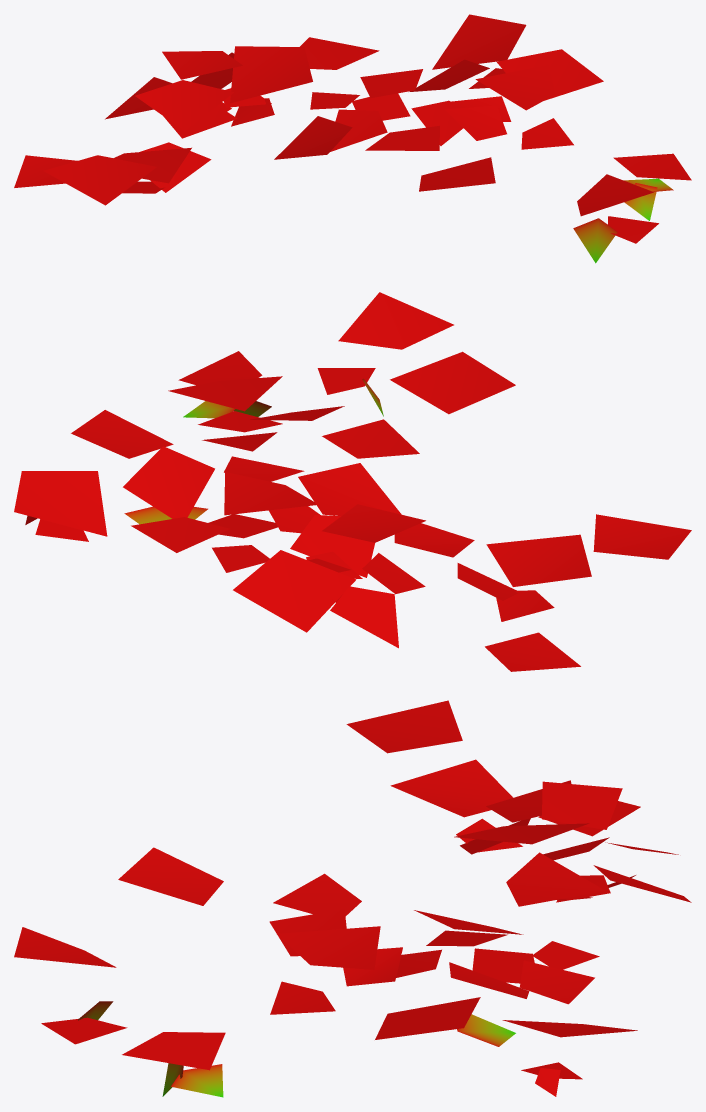
The model's file is Var6_LOD5.fbx.
The picture shows the model from 3 angles, top to bottom: view 1: azimuth 30°, elevation 25°; view 2: azimuth 150°, elevation 25°; view 3: azimuth 270°, elevation 25°; orthographic projection. The views are drawn at different scales.
Parts seen in each view (by area): view 1: _1mjn_Var6_LOD5; view 2: _1mjn_Var6_LOD5; view 3: _1mjn_Var6_LOD5.
Boxes of the visible parts, box(x1,y1,x2,y2) form: _1mjn_Var6_LOD5: box(14, 14, 691, 263); _1mjn_Var6_LOD5: box(14, 292, 691, 671); _1mjn_Var6_LOD5: box(14, 700, 691, 1097).
Size of the model in its own units: 62.06 by 12.39 by 55.78.
